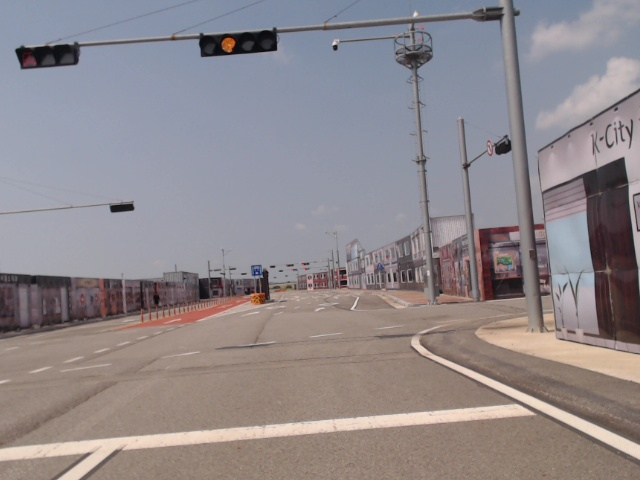orange_4: (200, 31, 278, 56)
